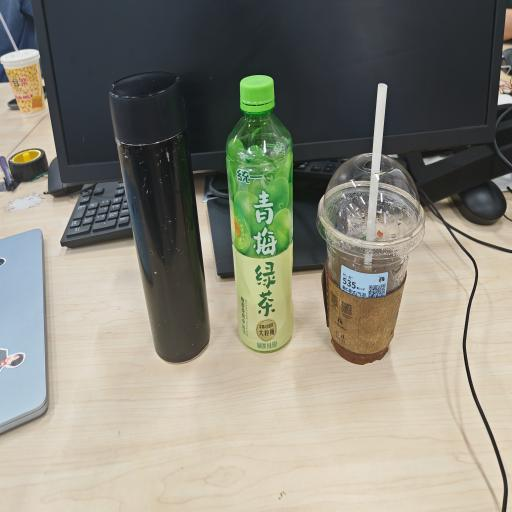laptop: (1, 228, 51, 439)
mouse: (452, 181, 506, 225)
